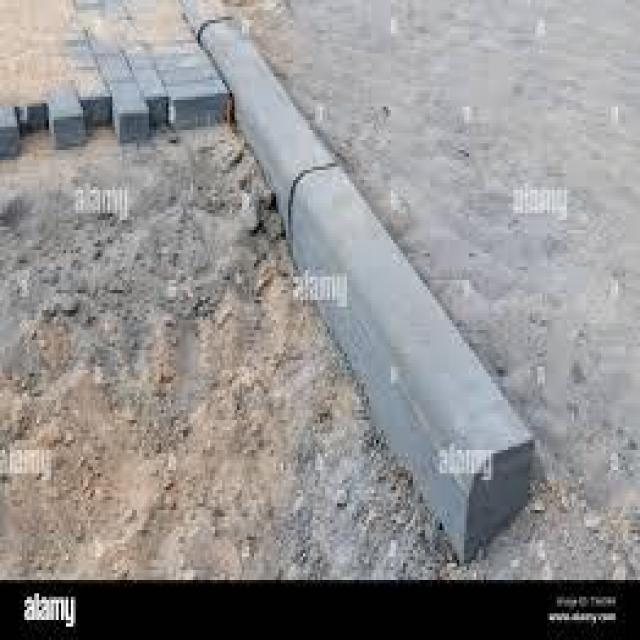curb: (175, 1, 539, 560)
